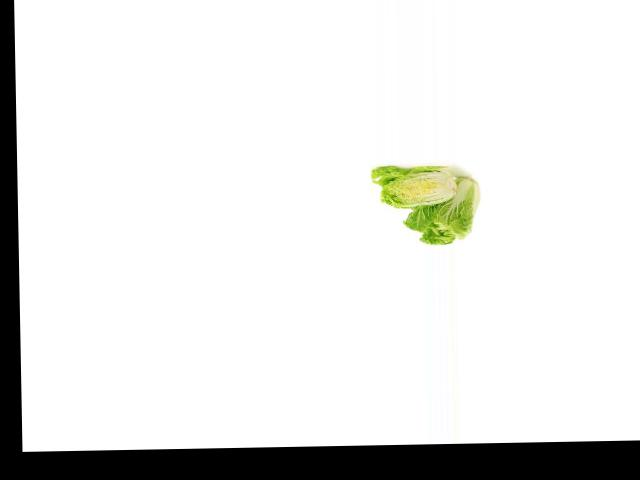lettuce: (398, 171, 482, 249)
